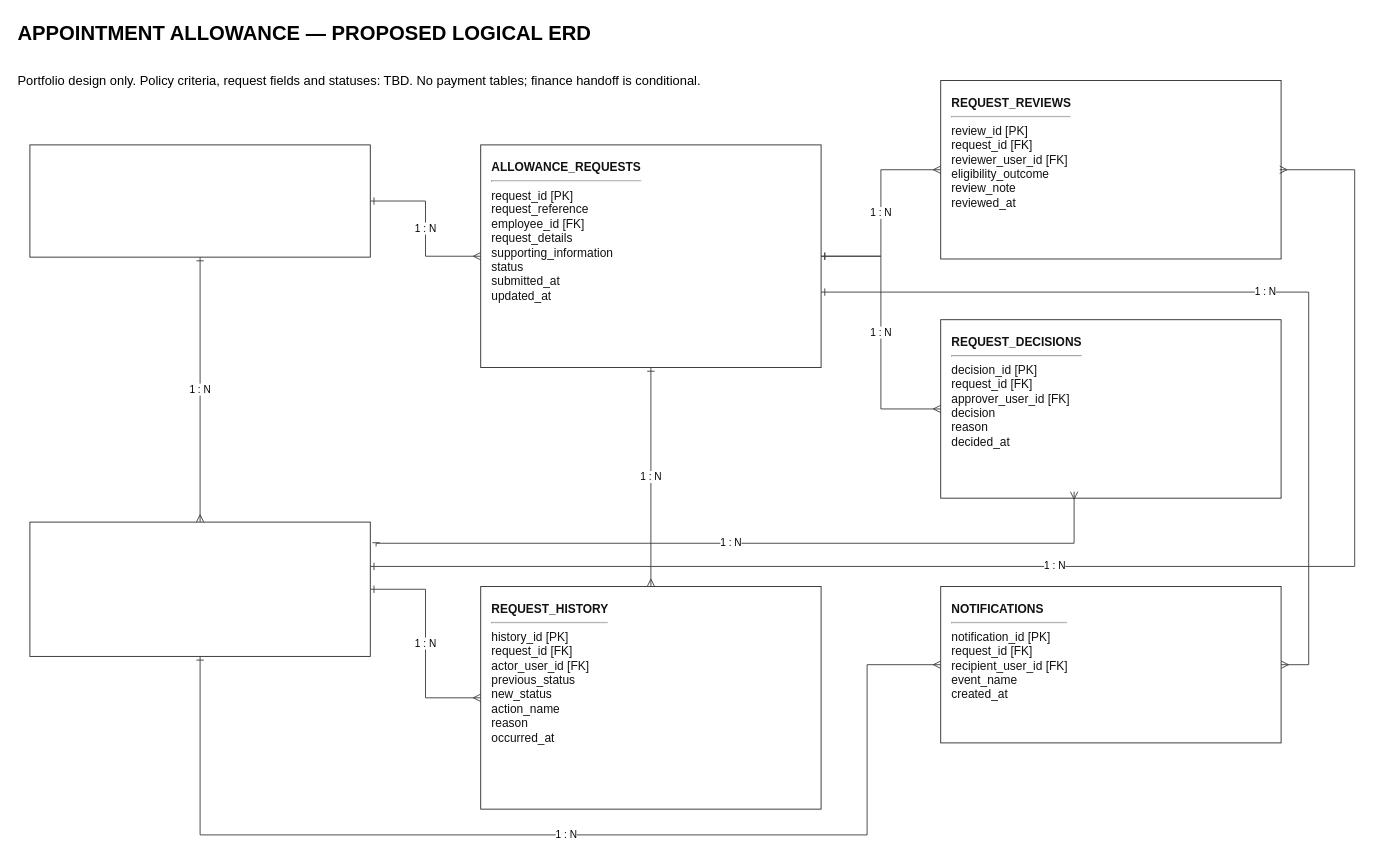
This 1379x859 diagram has some shape labels left out. Each missing label, with the box of its shape:
EMPLOYEES employee_id [PK] employee_reference display_name: (29, 144, 370, 257)
USERS user_id [PK] employee_id [FK] role_name is_active: (29, 521, 370, 656)
